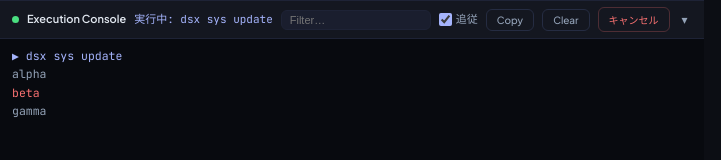
Test case: LogConsole — 絞り込み・コピー・クリア › フィルタ入力で表示する行を絞り込み、ANSI を除いた文字列で照合する
Step 1. Type "BETA" into the field named "ログを絞り込む" → (356,20), box [281, 10, 431, 30]
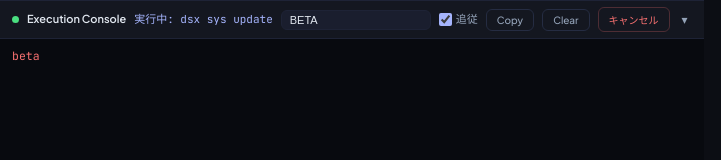
Check: the text "beta" is shown, box [12, 48, 40, 63]
Check: the text "alpha" is gone
Check: the text "gamma" is gone
